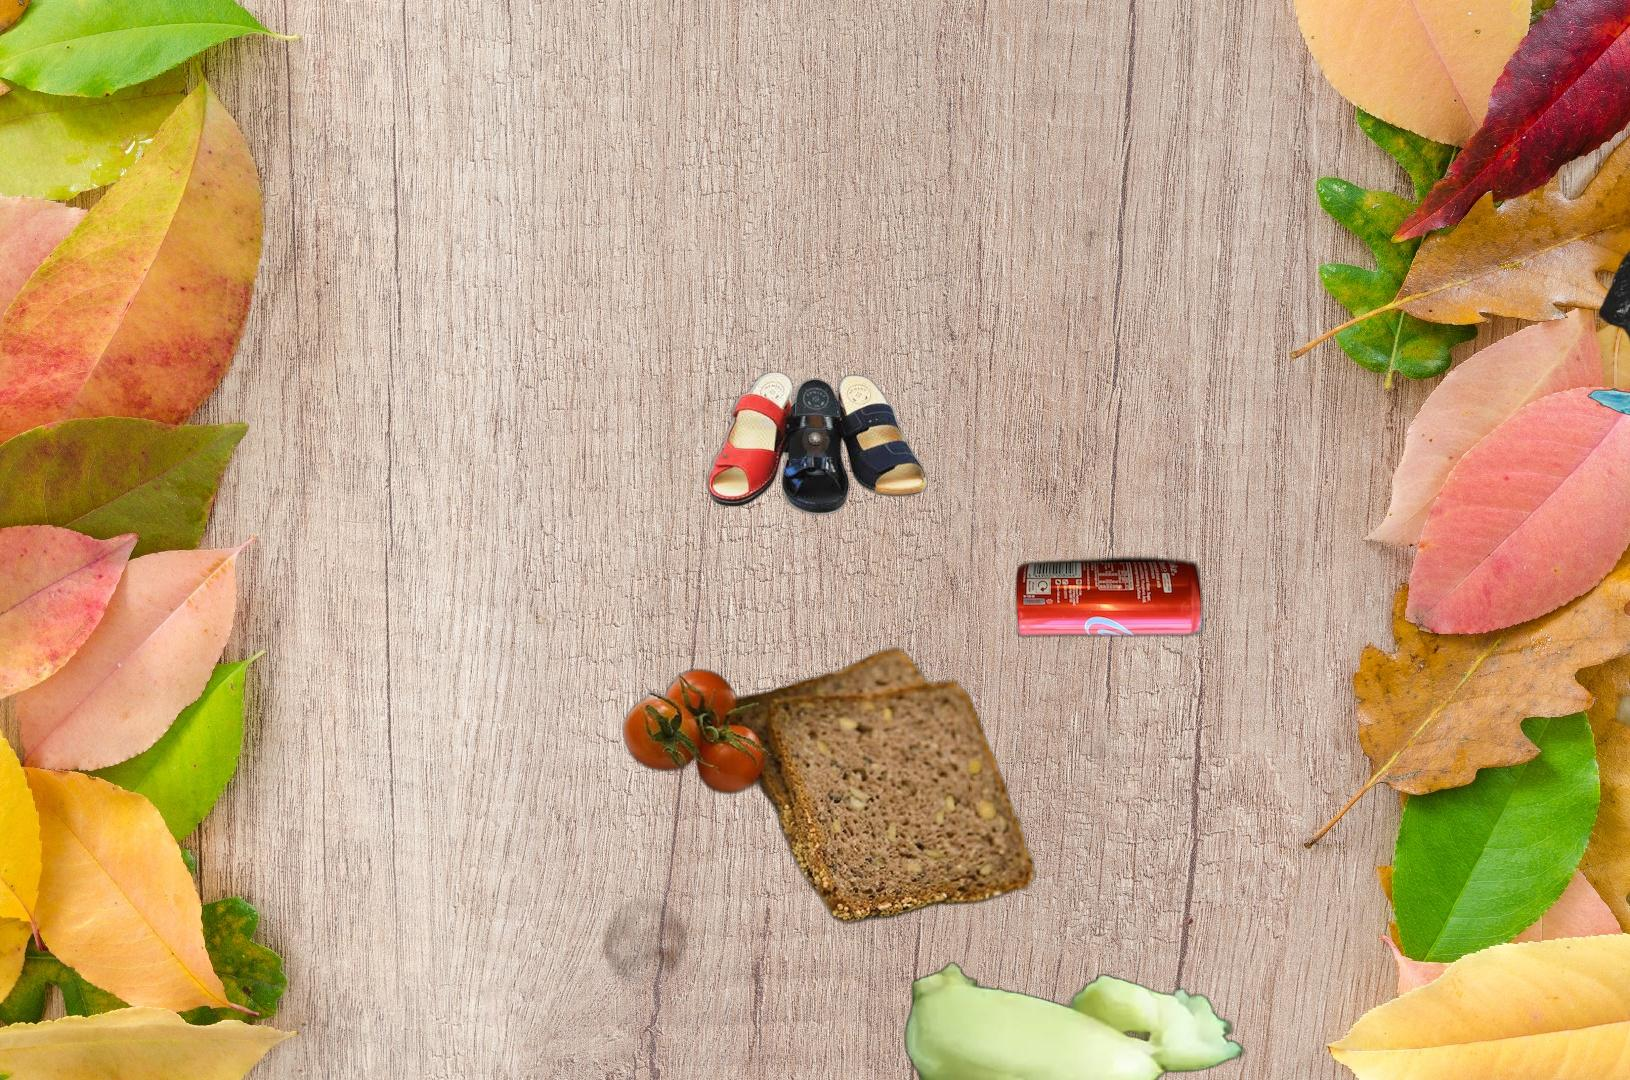biological: (601, 641, 1038, 990), (899, 957, 1630, 1080)
glass: (607, 76, 1119, 759)
metal-cans: (1011, 553, 1208, 642)
paper: (1616, 609, 1630, 974)
plastic-bag: (1585, 235, 1630, 427)
shoes: (704, 369, 930, 517)
